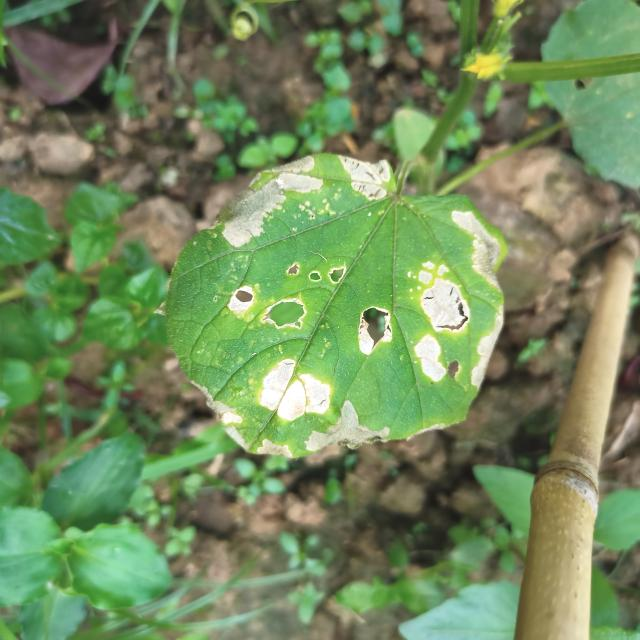disease_cucumber: (165, 260, 390, 464), (351, 205, 510, 393), (206, 139, 402, 249)
